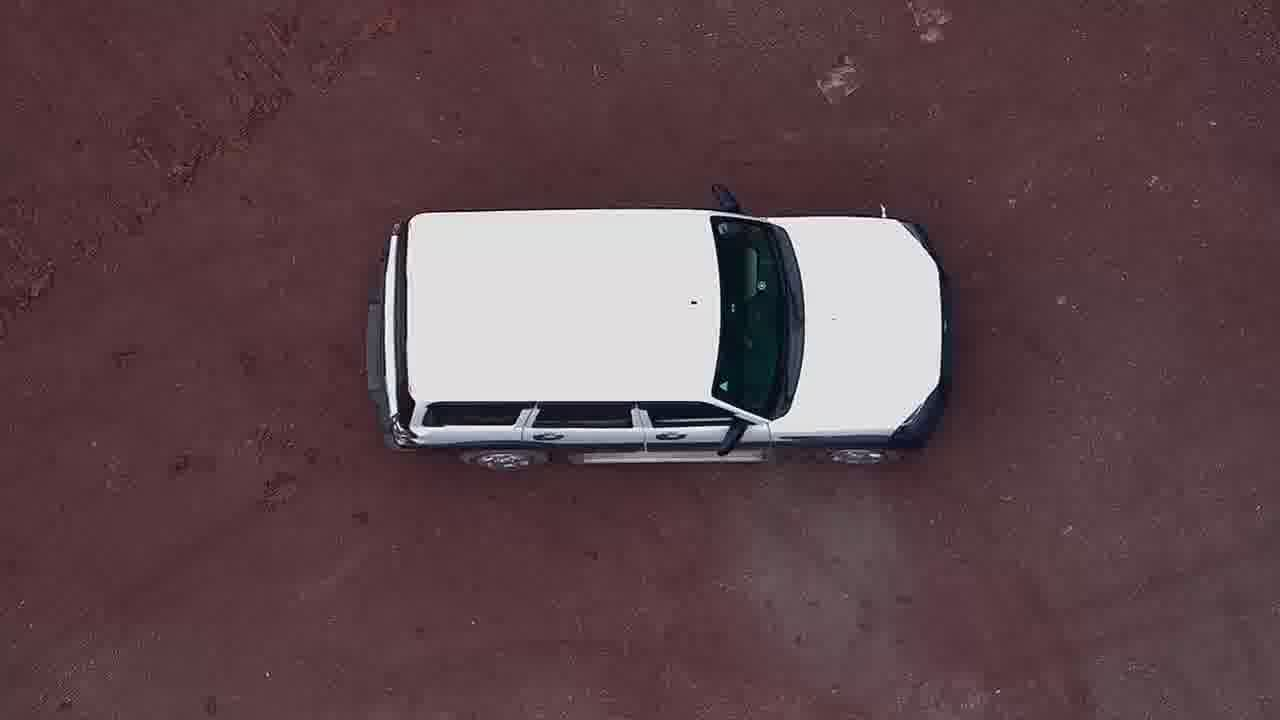light_motor_vehicle: (363, 201, 958, 470)
